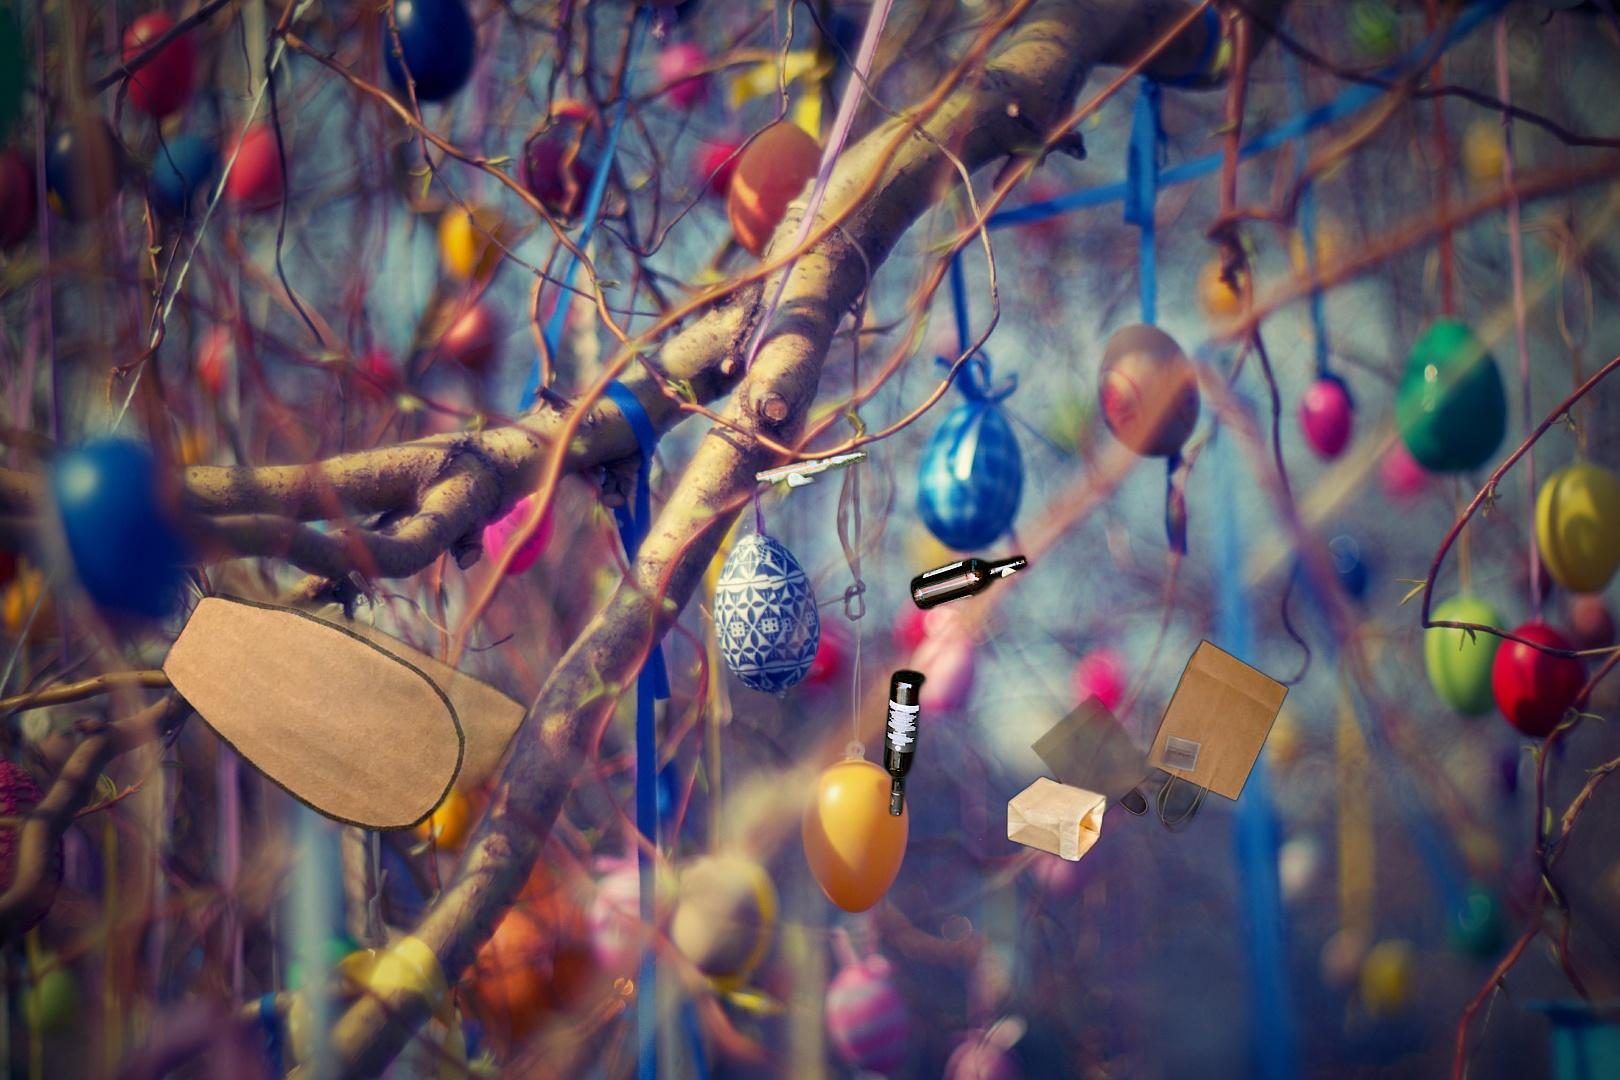glass: (751, 446, 1033, 823)
paper-bag: (994, 606, 1292, 869)
trashbox-cardboard: (34, 551, 634, 921)
